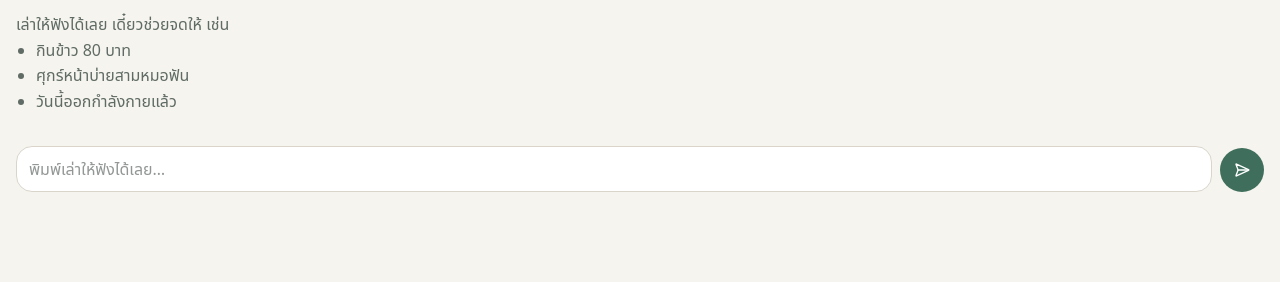
Test: send flow: optimistic bubble, thinking placeholder, disabled, then reply
This screenshot has width=1280, height=282.
Later steps or results of the test are not shown.
Expected: the list is shown, [16, 13, 229, 112]
Type "  กินข้าว 80 บาท  " into the text box labelled "พิมพ์เล่าให้ฟังได้เลย…" at (614, 169), box [16, 146, 1212, 192]
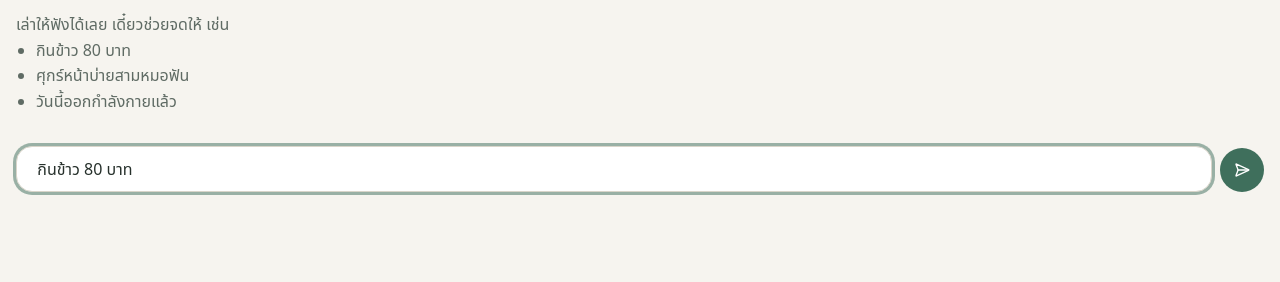
Click the button named "ส่ง" at (1242, 170), box [1220, 148, 1264, 192]
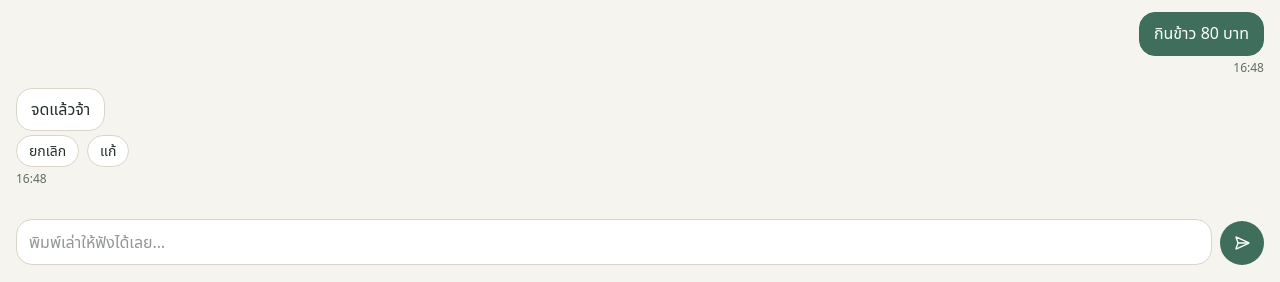
Now the text box labelled "พิมพ์เล่าให้ฟังได้เลย…" is empty, box [16, 219, 1212, 265]
Now the text "จดแล้วจ้า" is shown, box [16, 88, 105, 131]
Now the button "ยกเลิก" is shown, box [16, 135, 79, 167]
